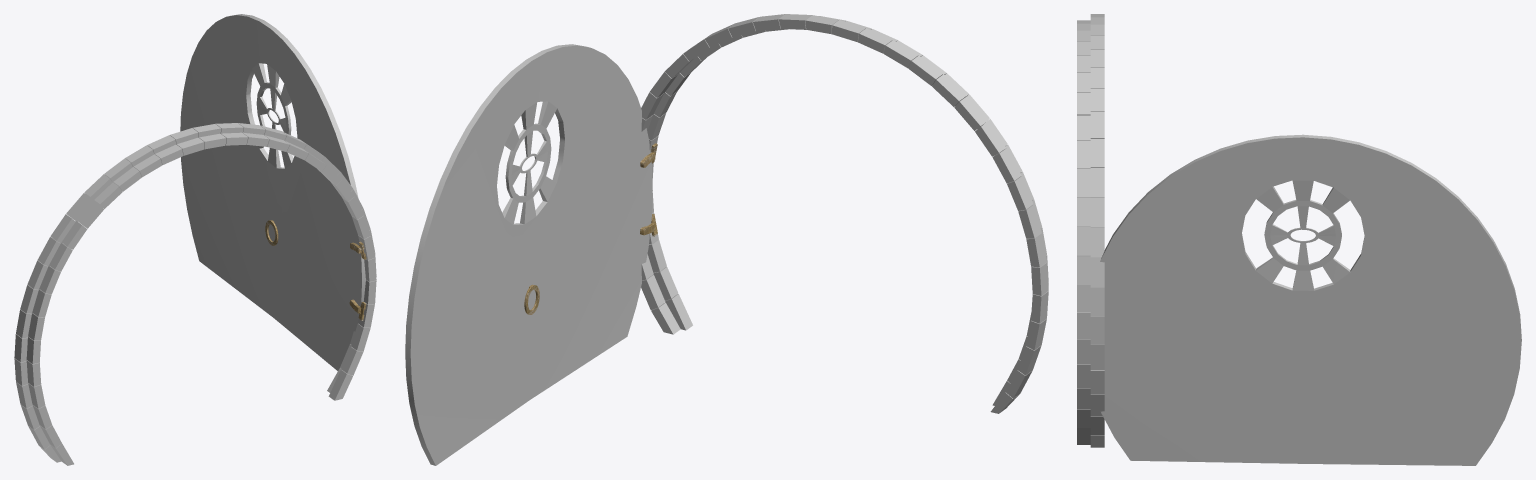
The model's file is doorAnimatedClosing01.FBX.
3 renders of one model, left to right at view 1: azimuth 30°, elevation 25°; view 2: azimuth 150°, elevation 25°; view 3: azimuth 270°, elevation 25°, orthographic. The views are drawn at different scales.
Parts seen in each view (by area): view 1: door, doorFrame; view 2: door, doorFrame; view 3: door, doorFrame.
Boxes of the visible parts, x1,y1,x2,y2 form: door: [180, 14, 365, 370]; doorFrame: [14, 123, 376, 465]; door: [405, 44, 655, 465]; doorFrame: [641, 14, 1048, 413]; door: [1100, 134, 1521, 465]; doorFrame: [1077, 14, 1104, 447].
Size of the model in its own units: 3.76 by 2.99 by 3.61.
